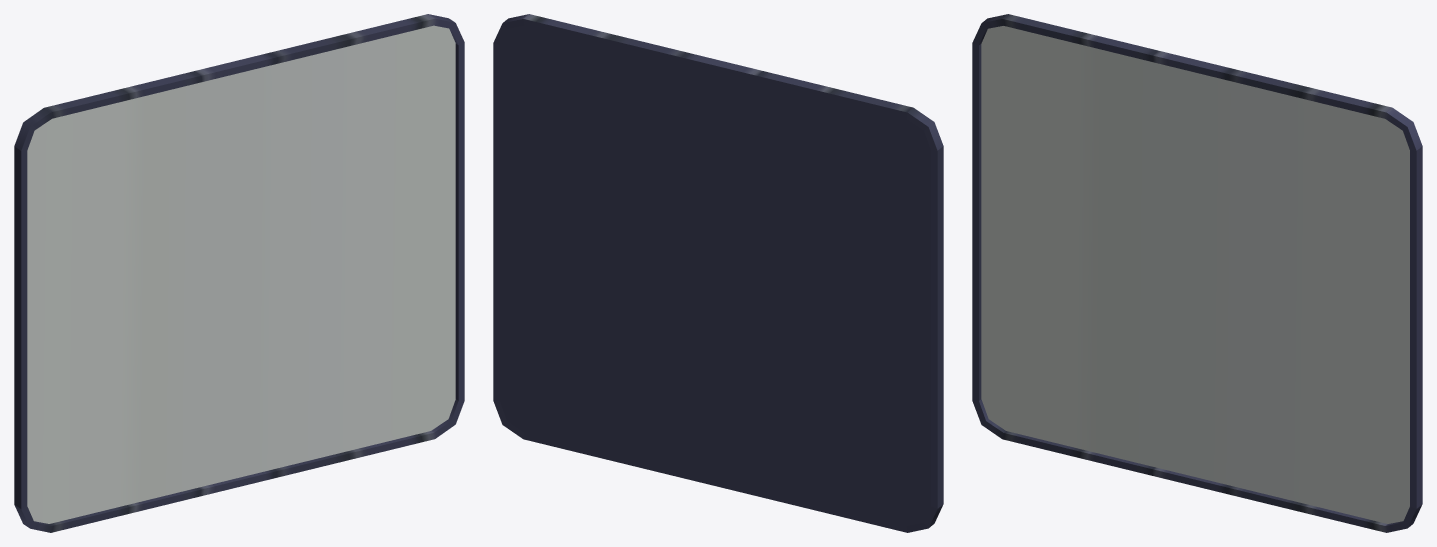
The model's file is signbook-board01-art.glb.
3 views of the same model, side by side, from view 1: azimuth 30°, elevation 25°; view 2: azimuth 150°, elevation 25°; view 3: azimuth 330°, elevation 25° (orthographic).
Parts seen in each view (by area): view 1: SignbookBoard01_Art; view 2: SignbookBoard01_Art; view 3: SignbookBoard01_Art.
Part boxes in pixels (left/top/right/bottom): SignbookBoard01_Art: left=14, top=14, right=464, bottom=532; SignbookBoard01_Art: left=493, top=14, right=943, bottom=532; SignbookBoard01_Art: left=972, top=14, right=1422, bottom=532.
Size of the model in its own units: 3.64 by 3.29 by 0.0977.
1 material, 1 textured.
